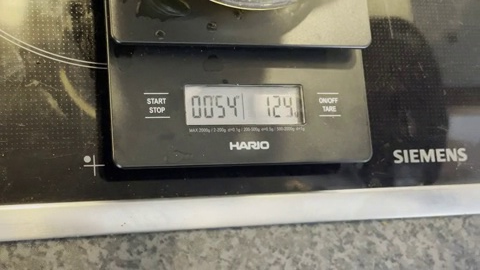display: (185, 84, 302, 124)
